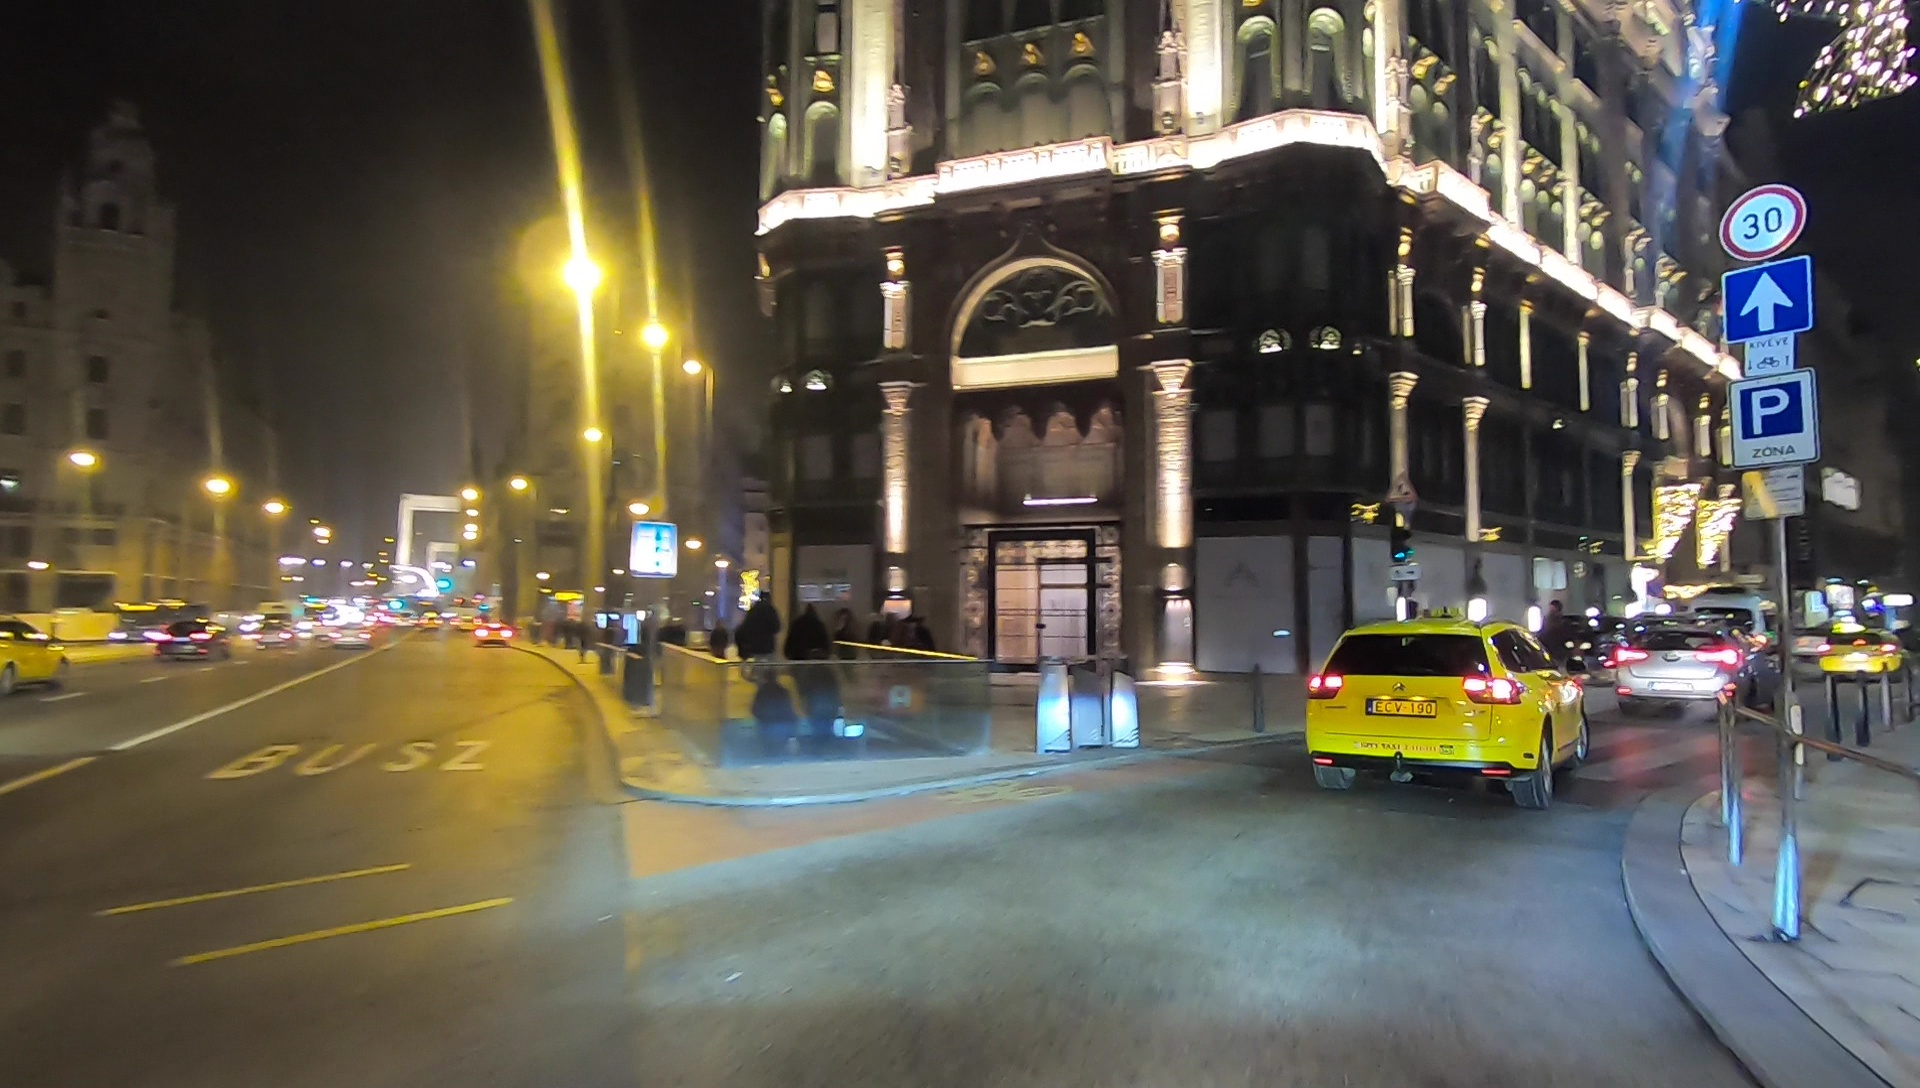person: (738, 594, 785, 706), (787, 605, 830, 713), (1534, 600, 1570, 694), (834, 603, 858, 692), (656, 615, 687, 682), (710, 620, 729, 685), (578, 618, 594, 665), (563, 611, 577, 653)
